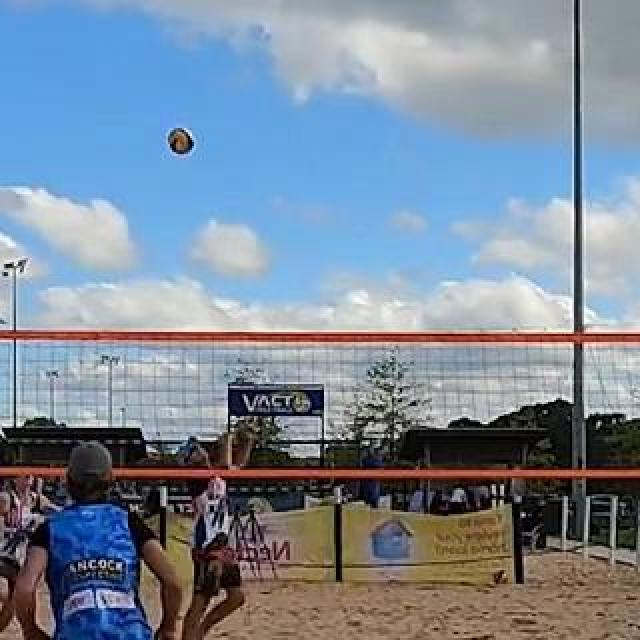volleyball: (167, 127, 195, 155), (494, 568, 508, 586)
